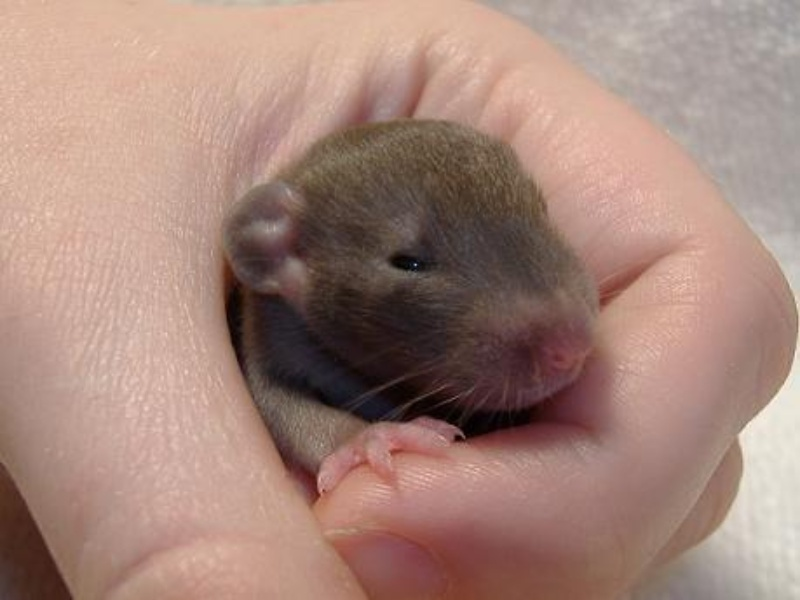minkish: (212, 106, 609, 495)
